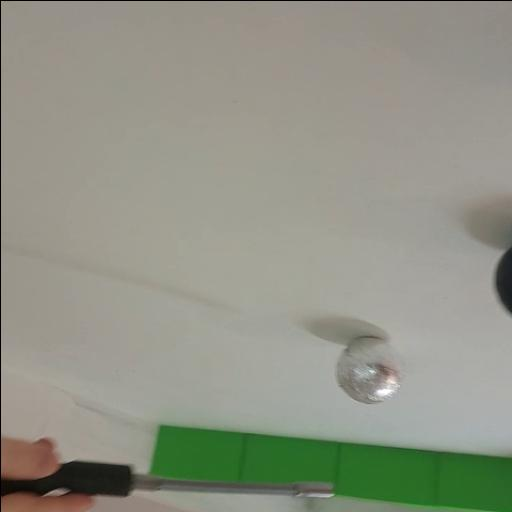alive: (332, 334, 404, 406)
dead: (494, 243, 512, 319)
